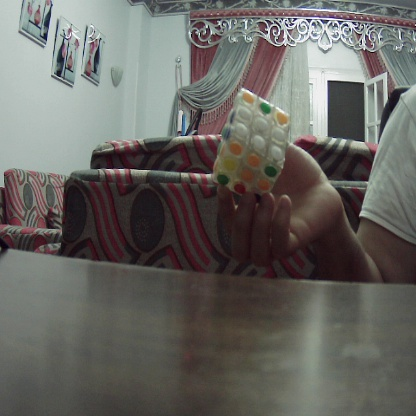Rubix Cube: (218, 93, 284, 196)
